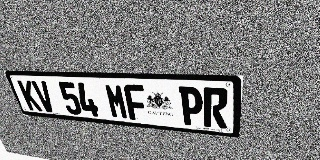4: (74, 82, 100, 117)
5: (57, 82, 83, 115)
F: (123, 84, 148, 121)
K: (17, 80, 43, 111)
M: (104, 83, 129, 119)
P: (179, 86, 203, 126)
R: (203, 87, 228, 129)
V: (31, 81, 57, 113)
